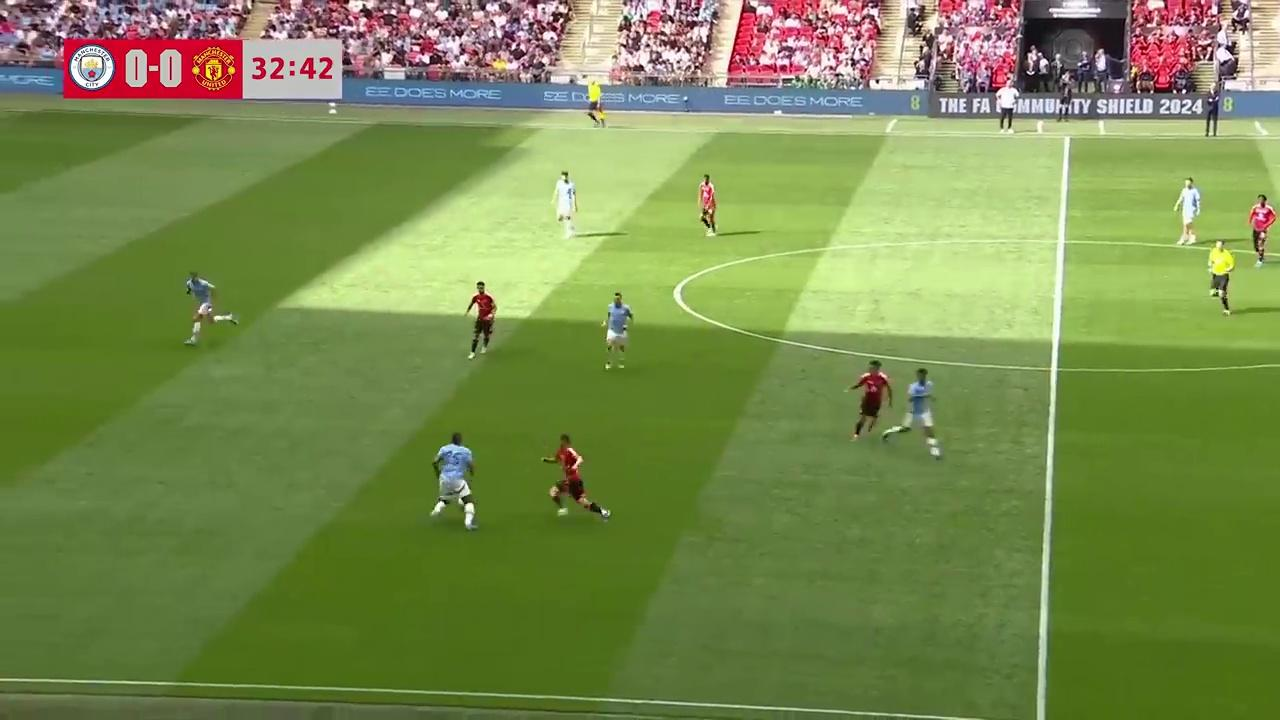player: (540, 432, 609, 520), (428, 433, 479, 532), (844, 360, 892, 443), (902, 367, 942, 459), (183, 271, 231, 346), (601, 292, 633, 371), (464, 280, 496, 358), (1247, 193, 1276, 267), (1173, 177, 1200, 247), (553, 171, 577, 236), (698, 174, 717, 237)
referee: (1207, 238, 1235, 317), (586, 78, 606, 127)
